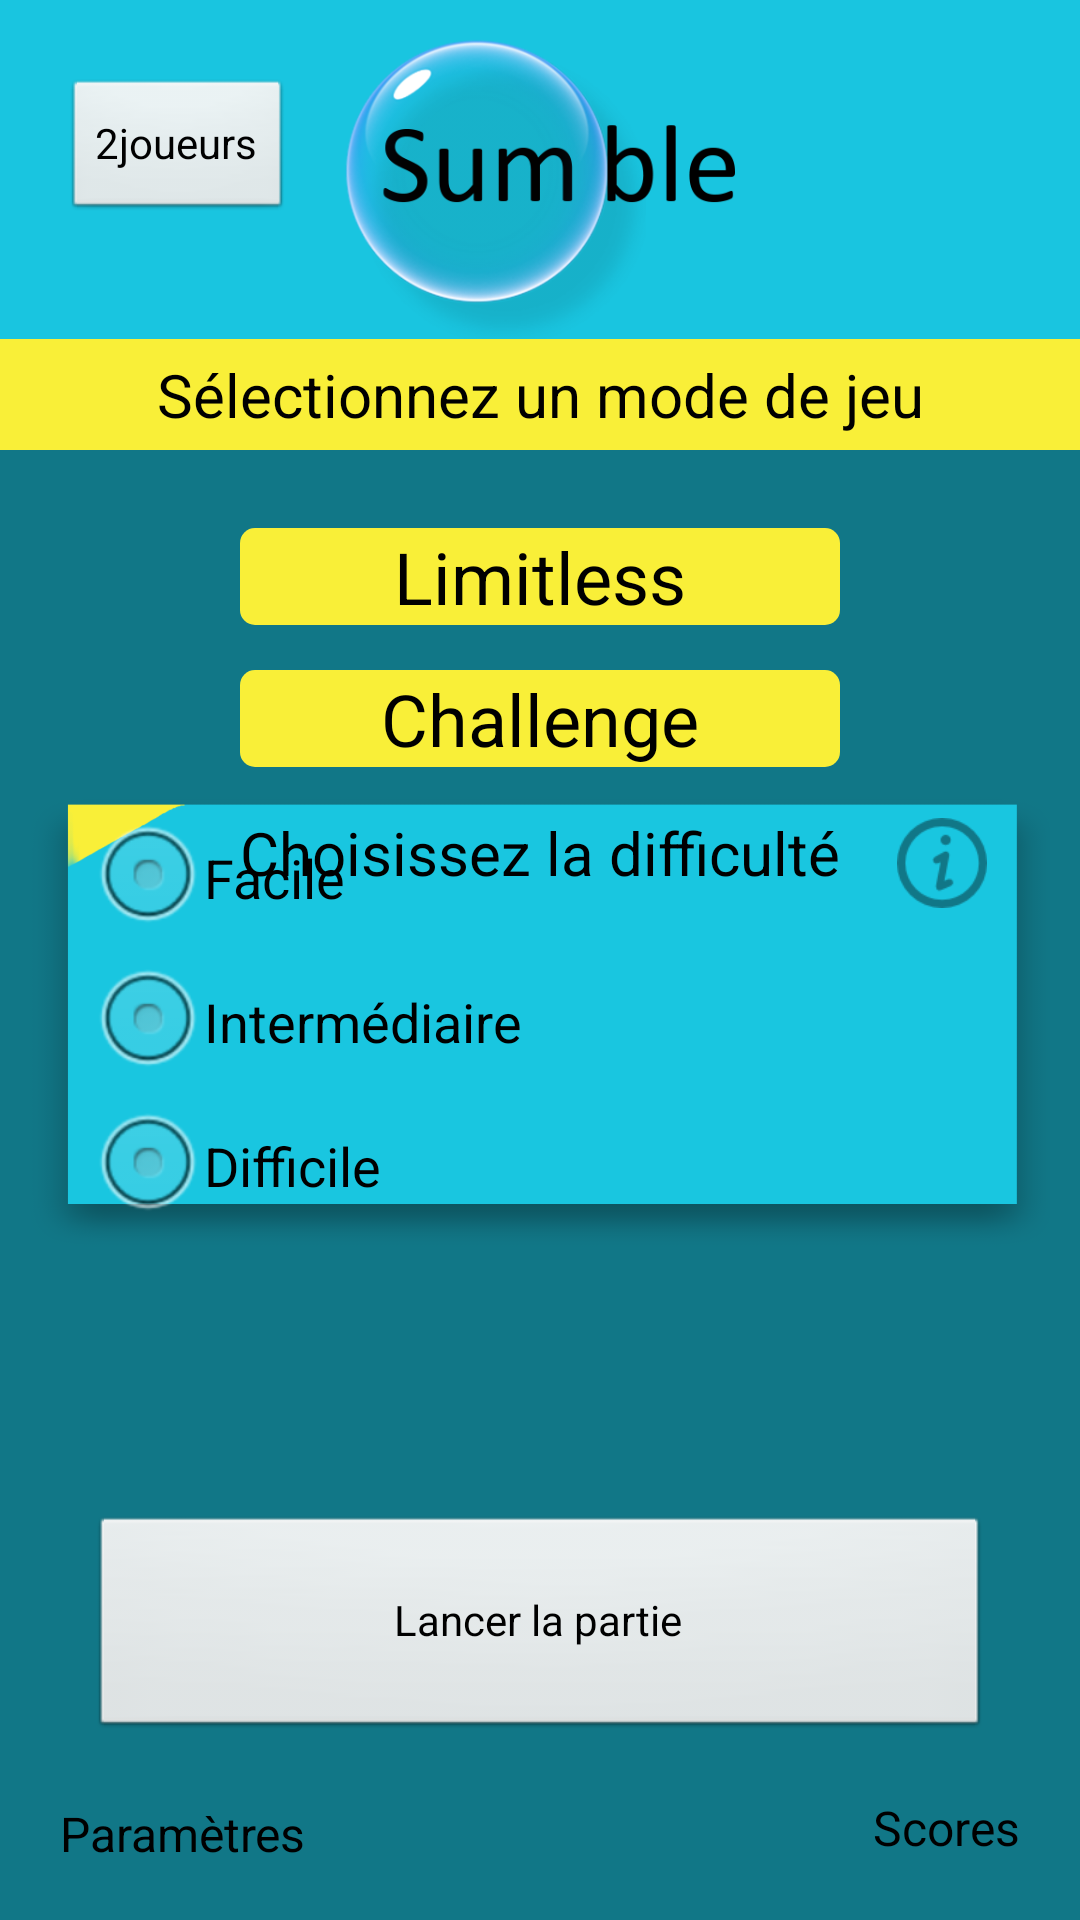

Point at icon controls on the screen. Image size 1080px x 1920px, points as point (x, y).
info: point (942, 863)
